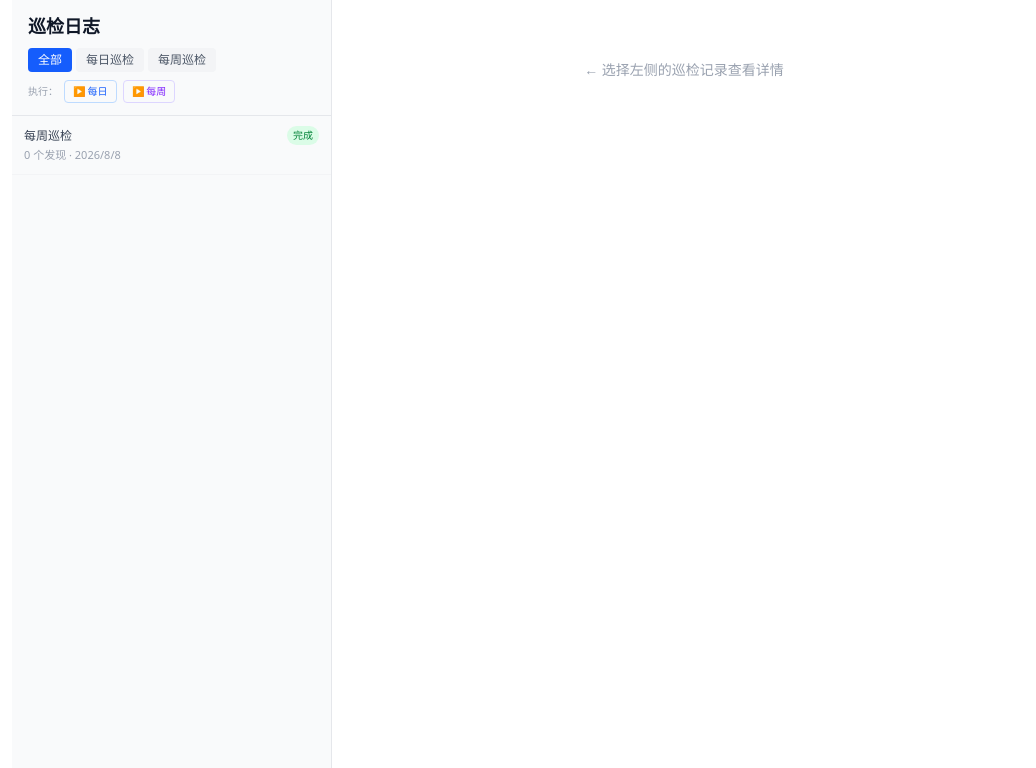
Test: PatrolPage › shows the empty-state notice when every category is an empty array
Click the text "0 个发现 · 2026/8/8". click: (72, 154)
box: [24, 147, 121, 162]
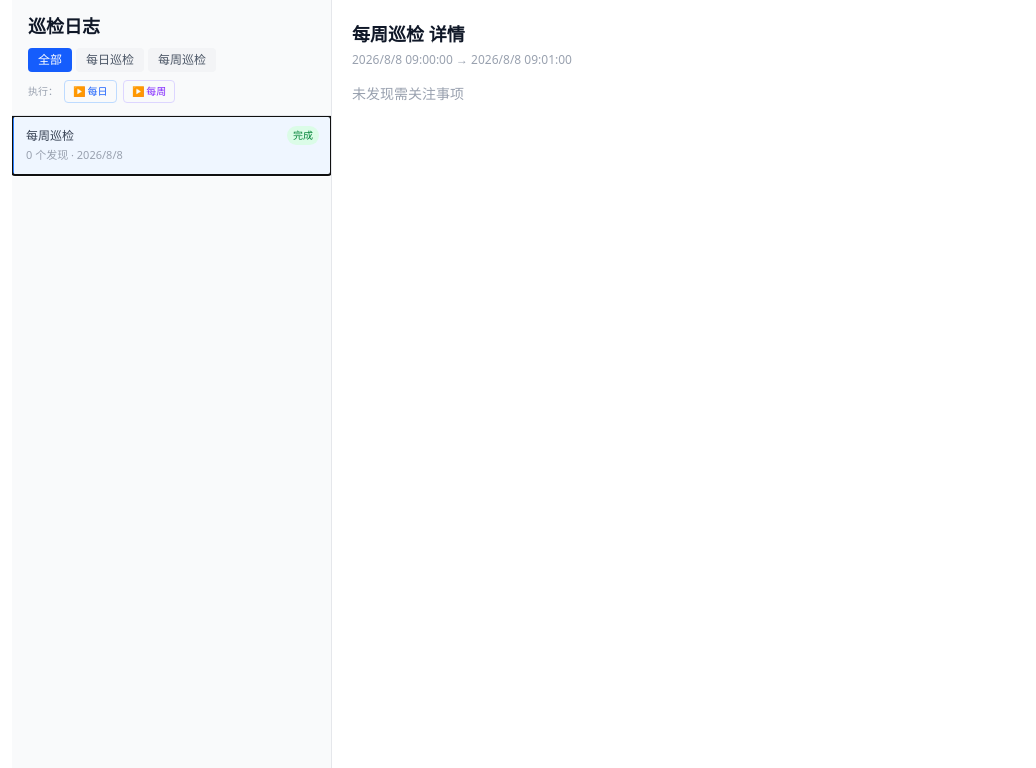
Expected: the text "未发现需关注事项" is shown, [352, 84, 464, 103]
